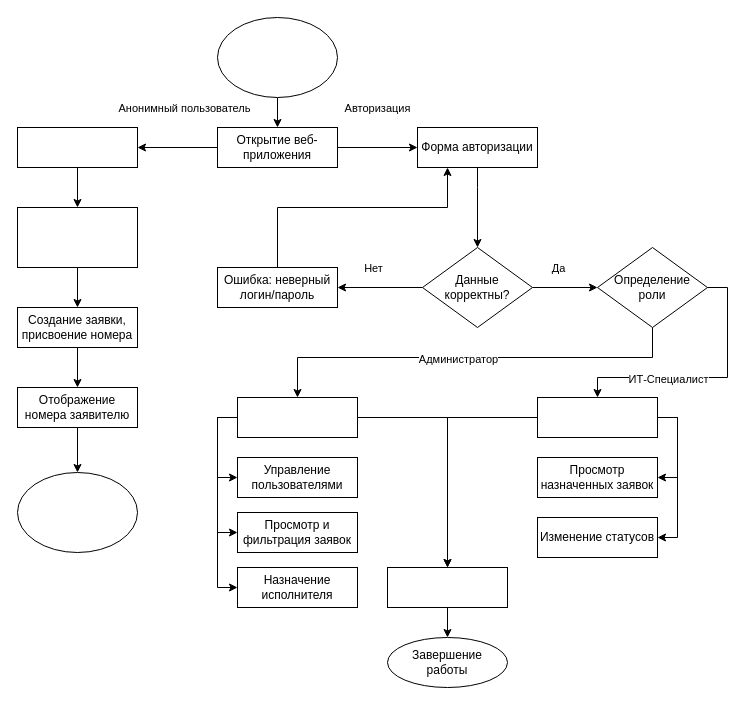
This 753x705 diagram has some shape labels left out. Each missing label, with the box of its shape:
Выход из системы: (386, 566, 508, 608)
Завершение для анонимного пользователя: (16, 472, 138, 552)
Заполнение полей ФИО, email, телефон, описание: (16, 206, 138, 268)
Начало работы: (216, 16, 338, 98)
Панель администратора: (236, 396, 358, 438)
Панель специалиста: (536, 396, 658, 438)
Публичная форма создания заявки: (16, 126, 138, 168)
